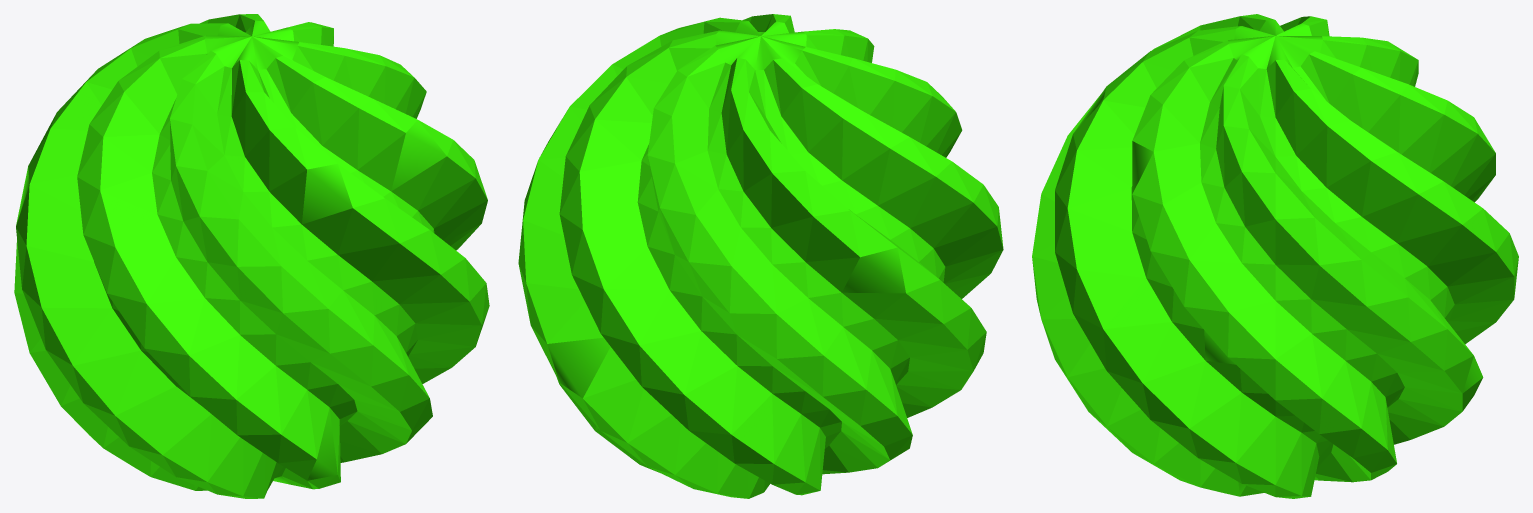
File: ear_green.gltf
The picture shows the model from 3 angles, left to right: view 1: azimuth 30°, elevation 25°; view 2: azimuth 150°, elevation 25°; view 3: azimuth 270°, elevation 25°; orthographic projection.
Visible parts, largest first — view 1: AnimatedMorphSphere; view 2: AnimatedMorphSphere; view 3: AnimatedMorphSphere.
Boxes of the visible parts, bbox=[...] form: AnimatedMorphSphere: bbox=[14, 14, 489, 498]; AnimatedMorphSphere: bbox=[518, 14, 1003, 498]; AnimatedMorphSphere: bbox=[1032, 14, 1518, 498].
Size of the model in its own units: 2.62 by 2.62 by 2.62.
